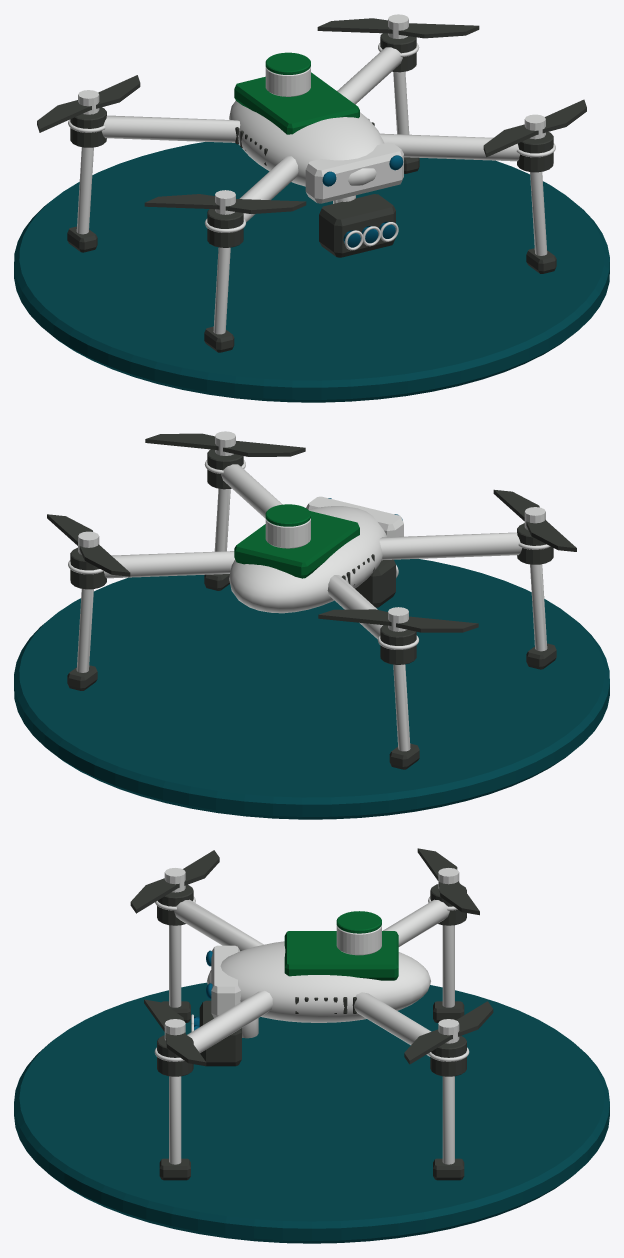
The model's file is dji-matrice-4d.glb.
3 views of the same model, one above another, from view 1: azimuth 30°, elevation 25°; view 2: azimuth 150°, elevation 25°; view 3: azimuth 270°, elevation 25° (orthographic).
Visible parts, largest first — view 1: pedestal, body; view 2: pedestal, body; view 3: pedestal, body.
Part boxes in pixels (left/top/right/bottom): pedestal: left=14, top=142, right=609, bottom=402; body: left=37, top=14, right=586, bottom=352; pedestal: left=14, top=559, right=609, bottom=819; body: left=47, top=431, right=576, bottom=769; pedestal: left=14, top=982, right=609, bottom=1243; body: left=130, top=848, right=493, bottom=1180.
Size of the model in its own units: 4.4 by 1.63 by 4.4.
